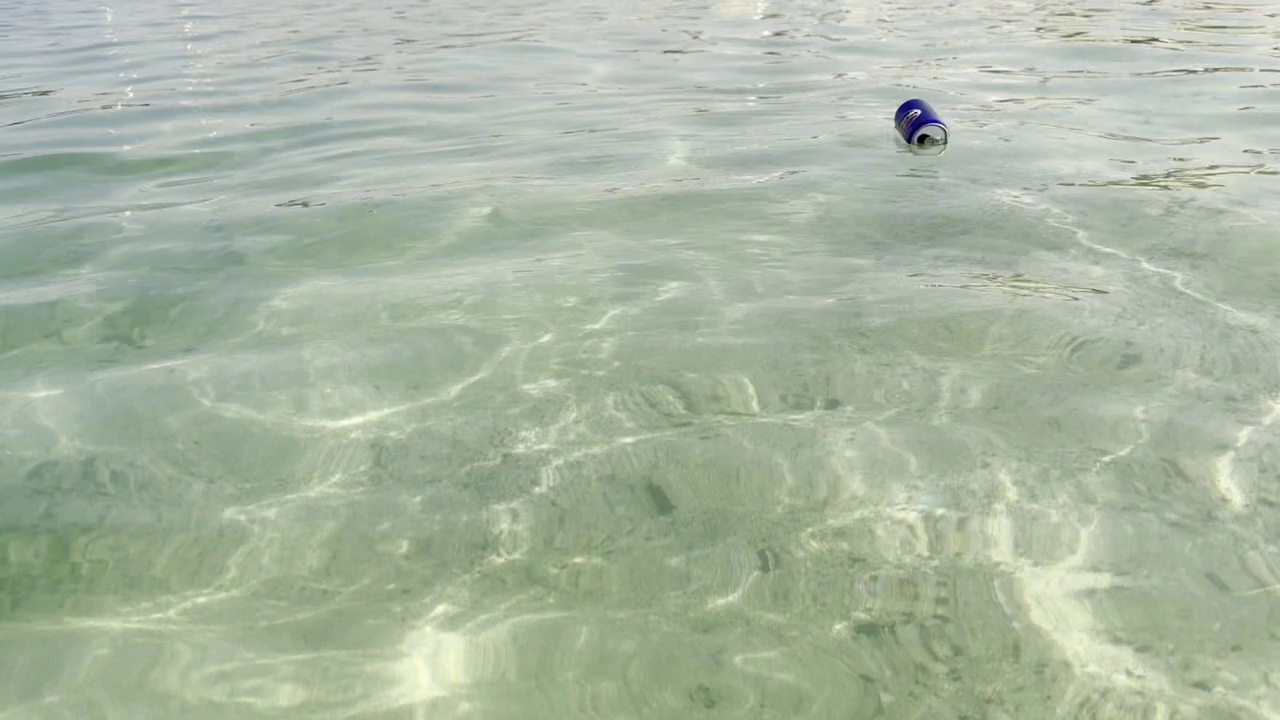debris: (885, 96, 957, 165)
